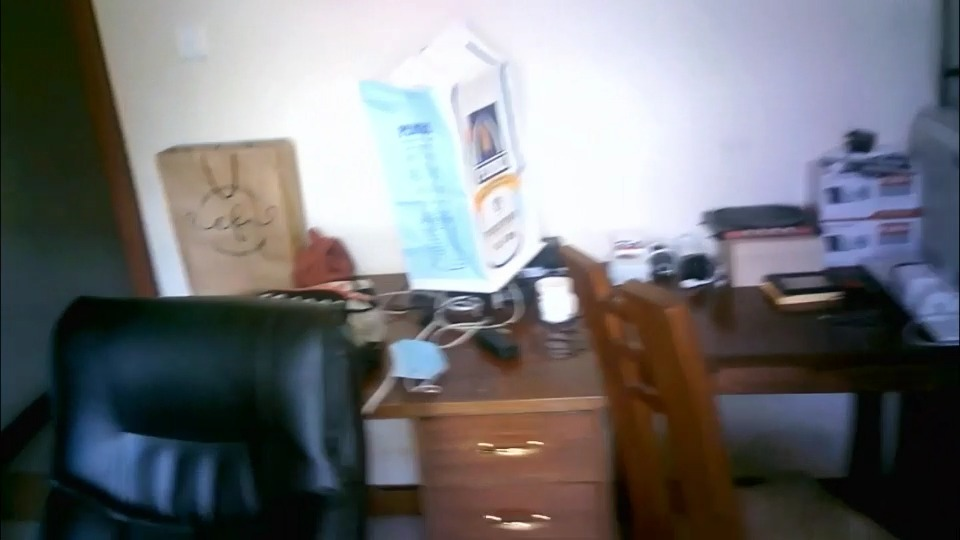wheat_flour_blue_label: (360, 21, 544, 293)
